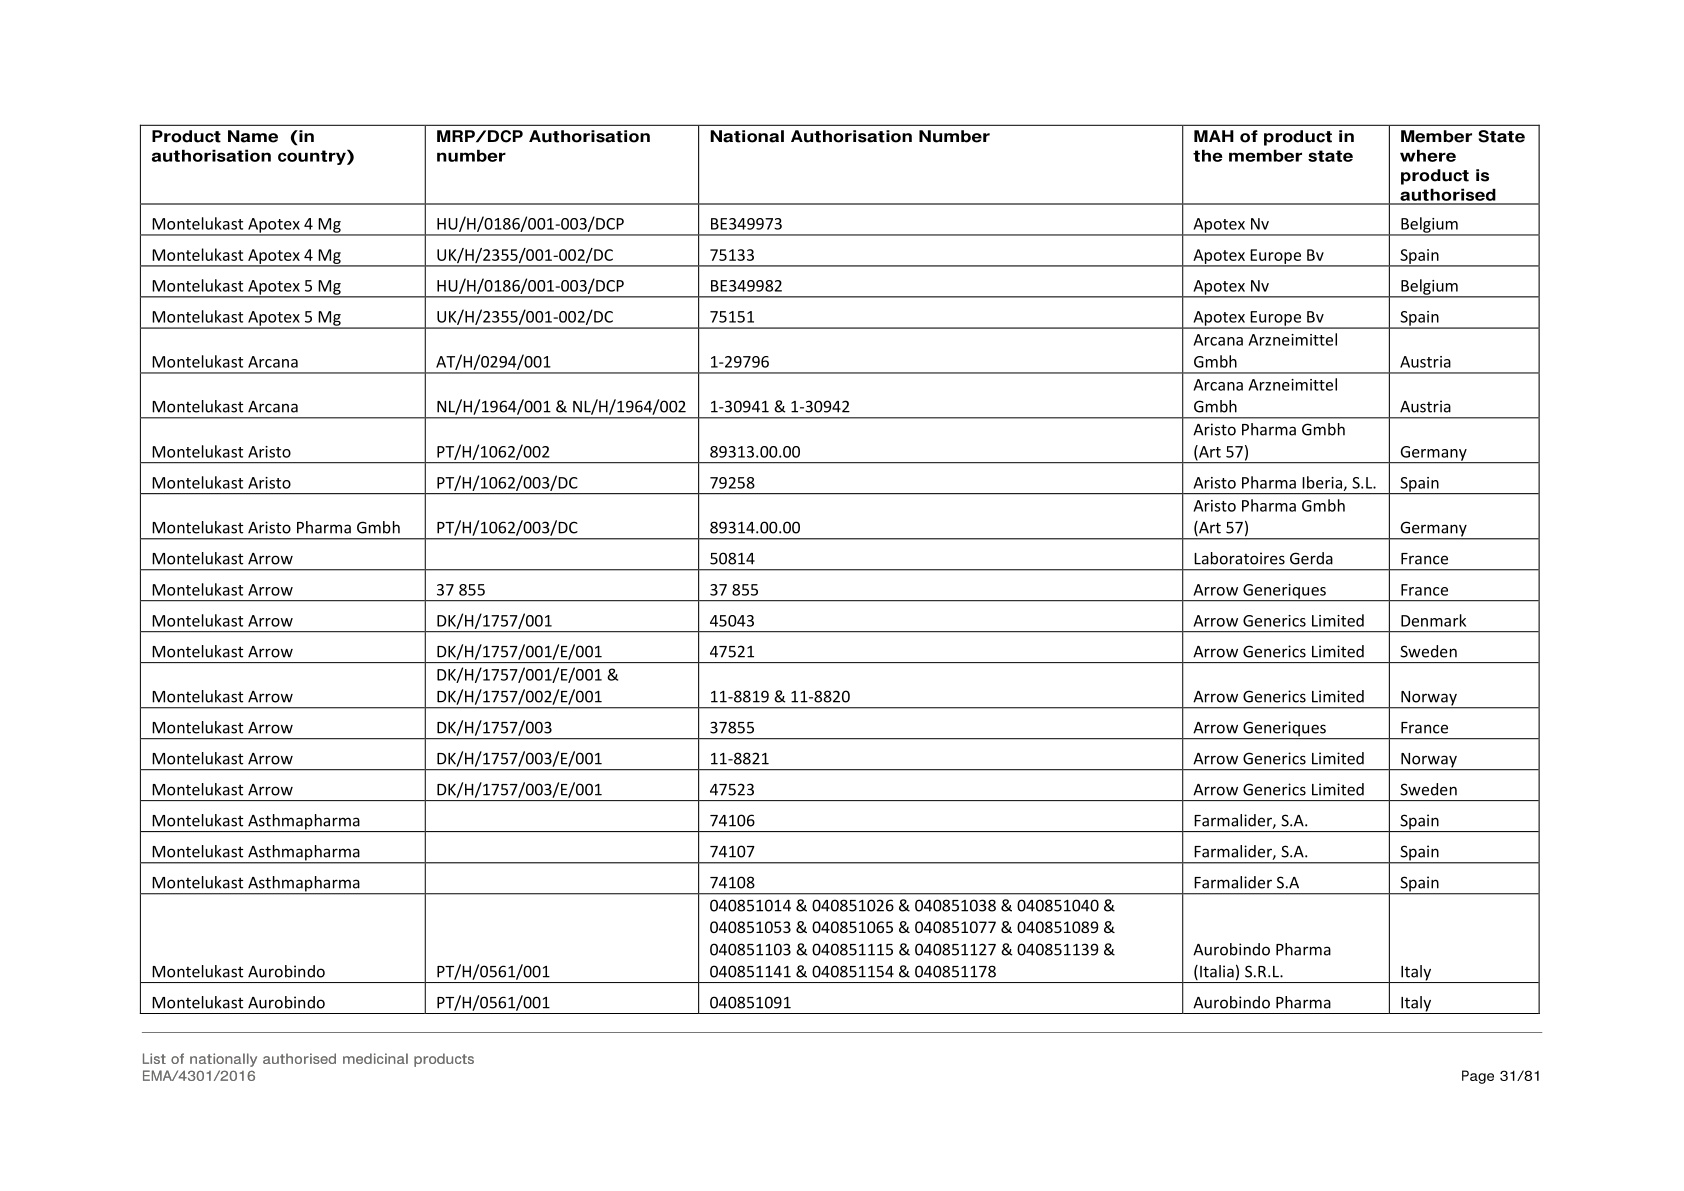full_lined: (138, 122, 1540, 1014)
